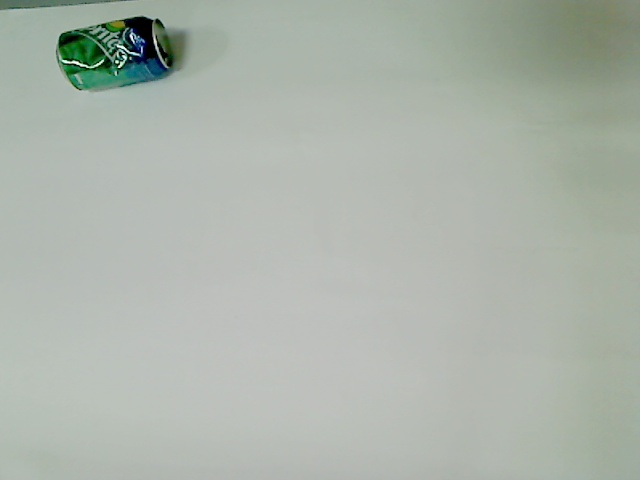can: (53, 15, 179, 93)
